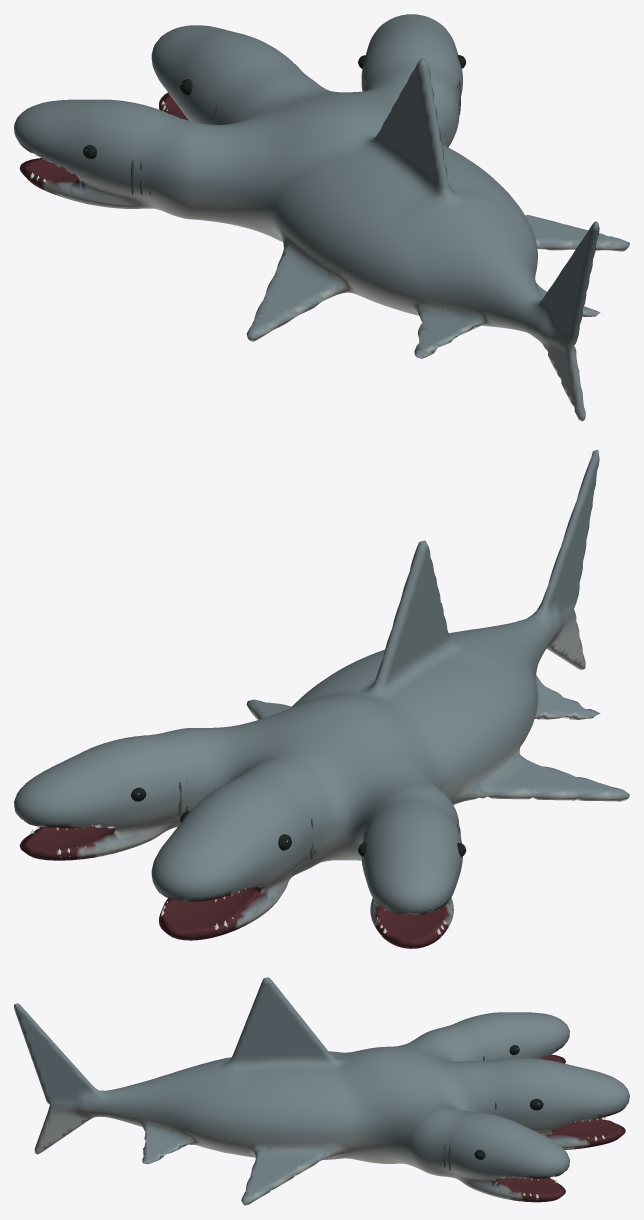
File: hydra_3.glb
The picture shows the model from 3 angles, top to bottom: view 1: azimuth 30°, elevation 25°; view 2: azimuth 150°, elevation 25°; view 3: azimuth 270°, elevation 25°; orthographic projection. The views are drawn at different scales.
Visible parts, largest first — view 1: UnifiedHydra; view 2: UnifiedHydra; view 3: UnifiedHydra.
Boxes of the visible parts, x1,y1,x2,y2 form: UnifiedHydra: (14,14,629,421); UnifiedHydra: (14,450,629,948); UnifiedHydra: (14,977,629,1205).
Bounding box in the file's own units: 2.57 × 1.44 × 4.48.
